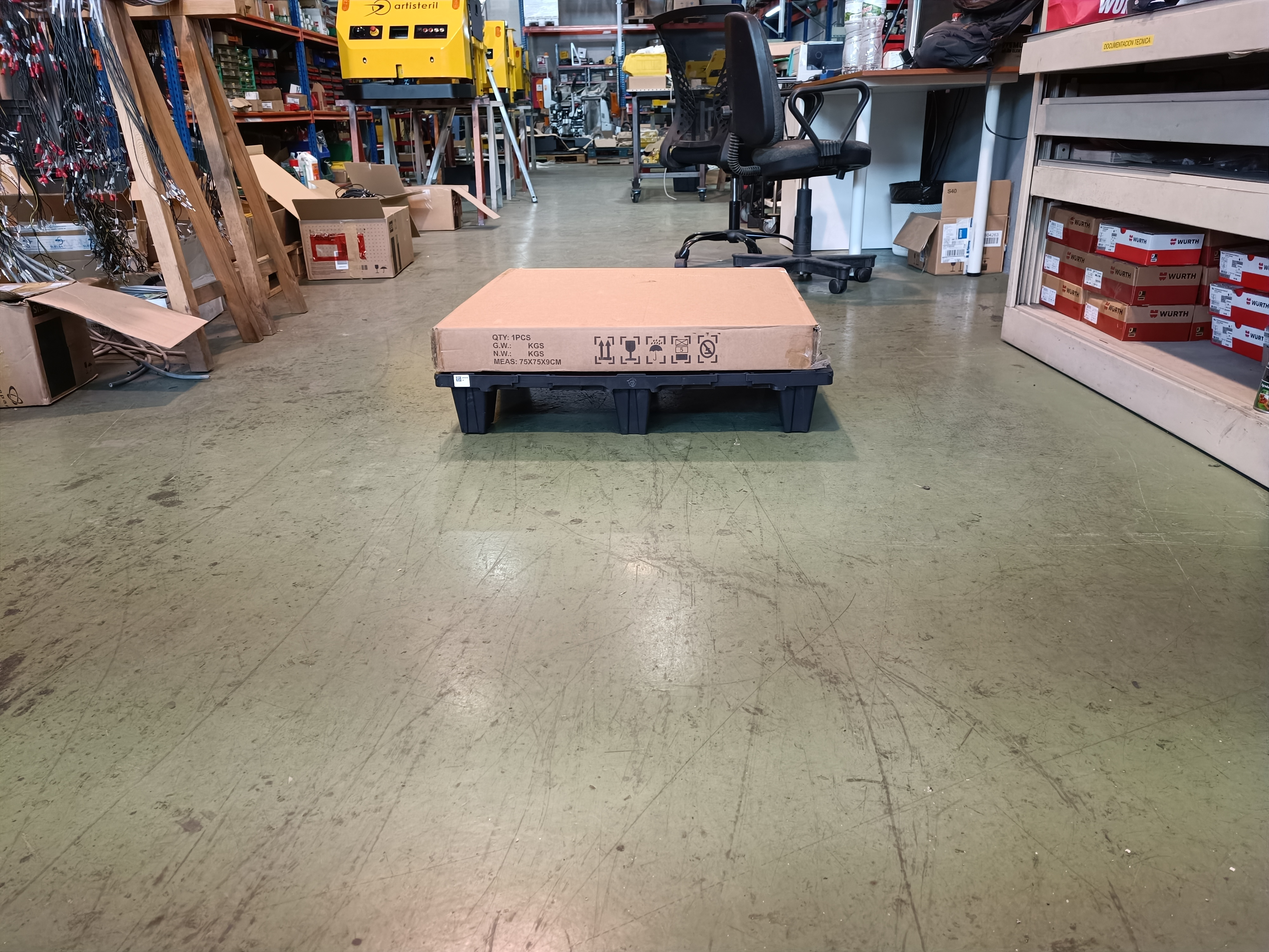block: (590, 387, 657, 448), (450, 384, 499, 440), (769, 391, 817, 438)
front: (440, 367, 841, 439)
hole pallet: (490, 387, 614, 438), (646, 388, 780, 431)
